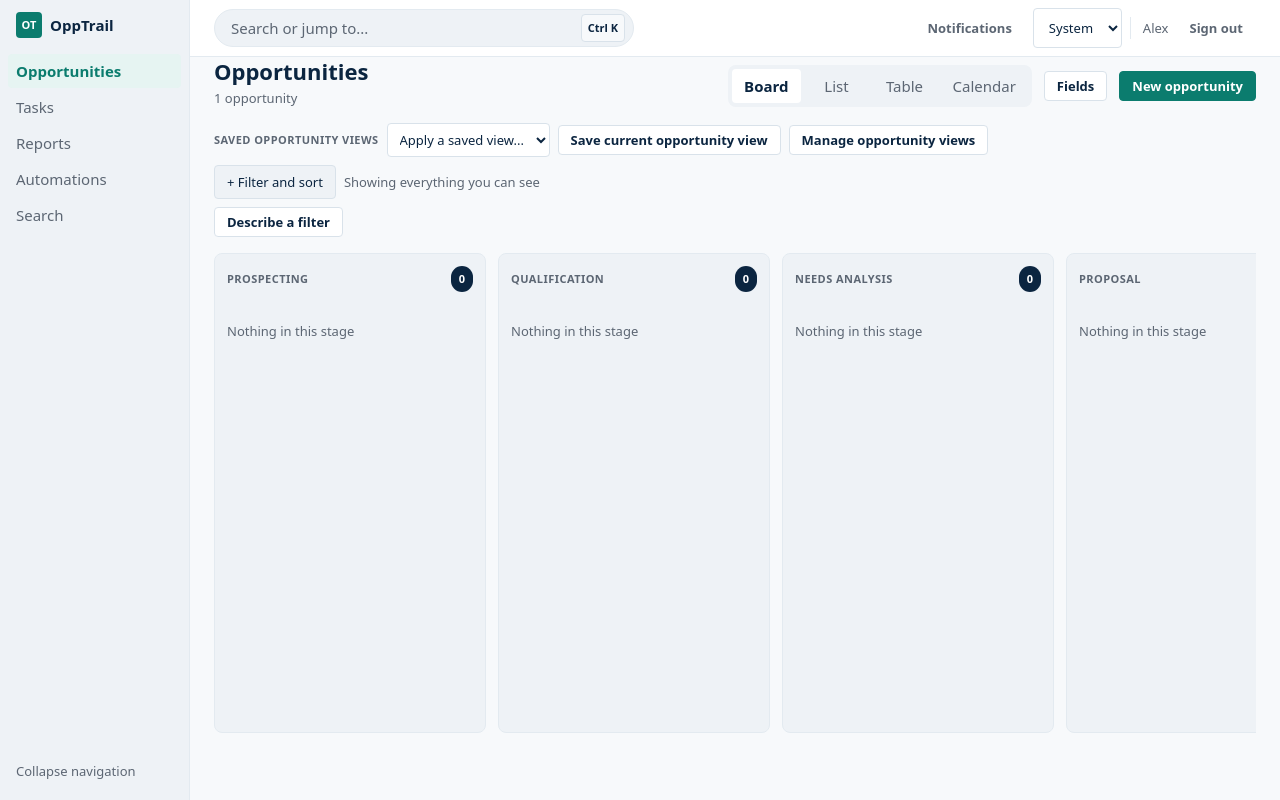
Test: defining and retiring a field › asks for options only when the type needs them
Expected: the heading "Opportunities" is shown, [214,57,368,85]
Click the button "Fields".
click(1076, 86)  # box [1044,71,1107,101]
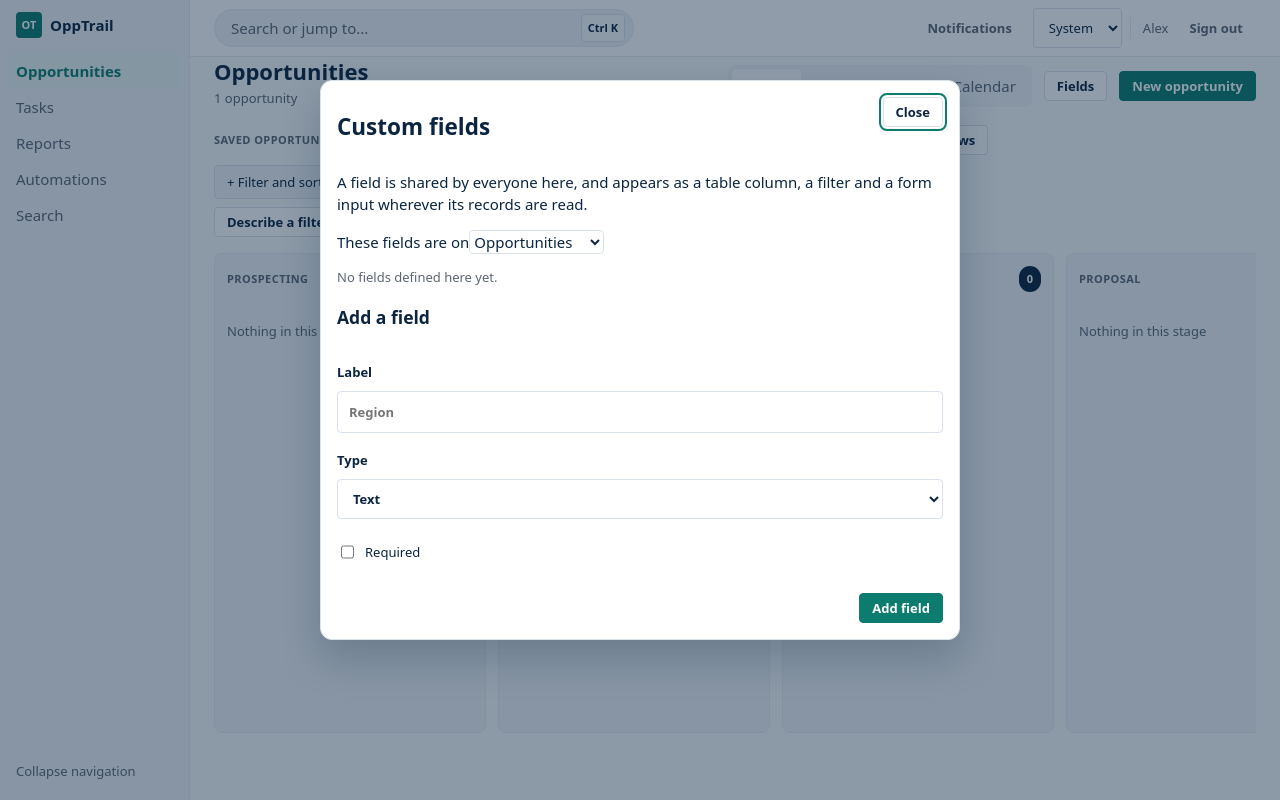
Expected: the field labelled "Options, separated by commas" is not shown
Select "Select one" in the dropdown labelled "Type" at (640, 499), box [337,479,943,519]
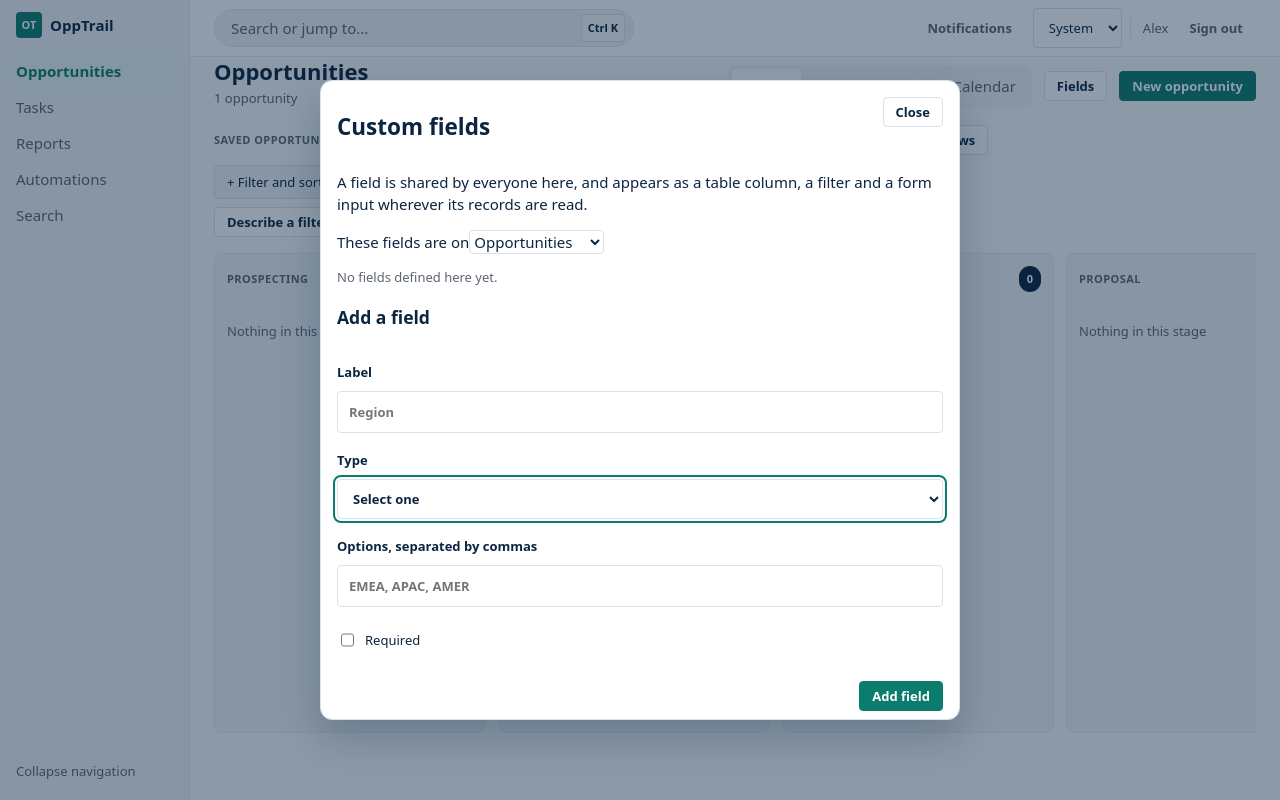
Now the field labelled "Options, separated by commas" is shown, box [337,565,943,607]
